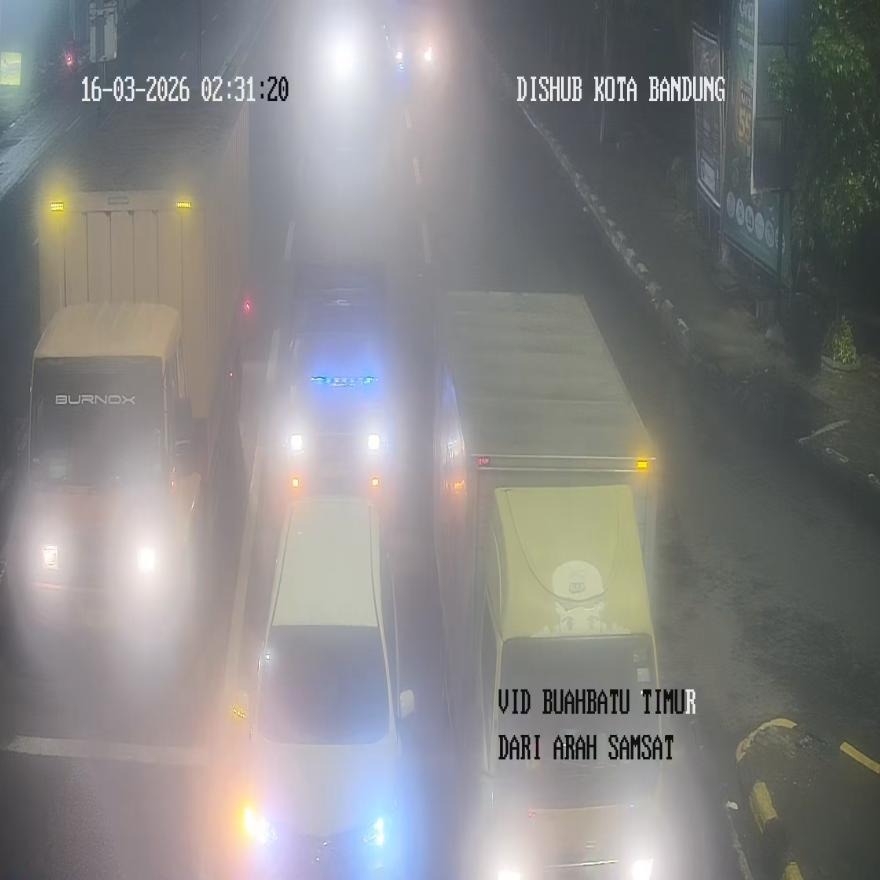Mobil: (240, 497, 414, 871)
Truk berat: (430, 292, 668, 876), (19, 301, 211, 652)
